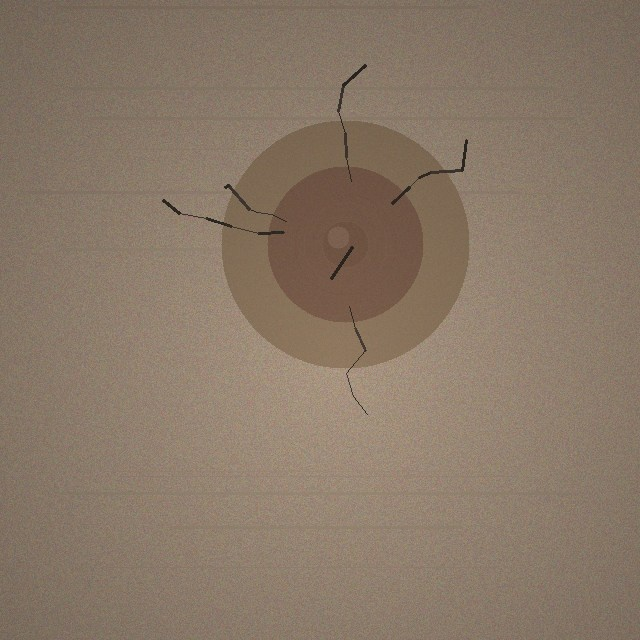crack: (221, 120, 469, 368)
